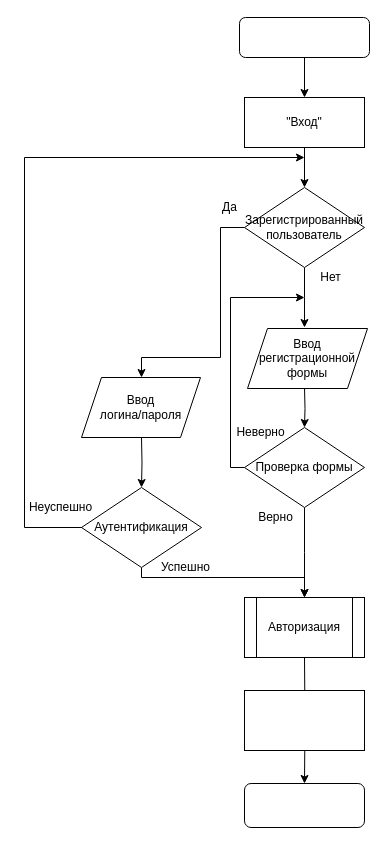
Some shapes in this 387 by 845 pixel diagram are drawn without their labels. Here are the shapes that lost their labels. From the top down, the centre of each, then its label:
pixel 304 37: Начало
pixel 304 720: Переход на главную страницу
pixel 304 805: Конец
